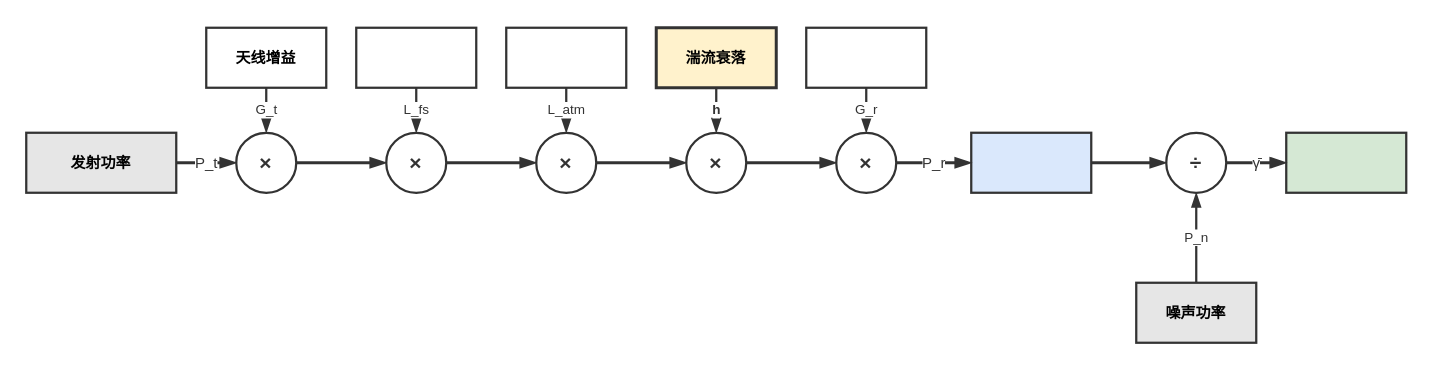
This 1434x369 diagram has some shape labels left out. Here are the shapes that lost their labels. From the top down, the centre of each, then its label:
At pixel 415 57: "空间损耗".
At pixel 565 57: "大气衰减".
At pixel 865 57: "接收增益".
At pixel 1030 162: "接收功率".
At pixel 1345 162: "平均SNR".
